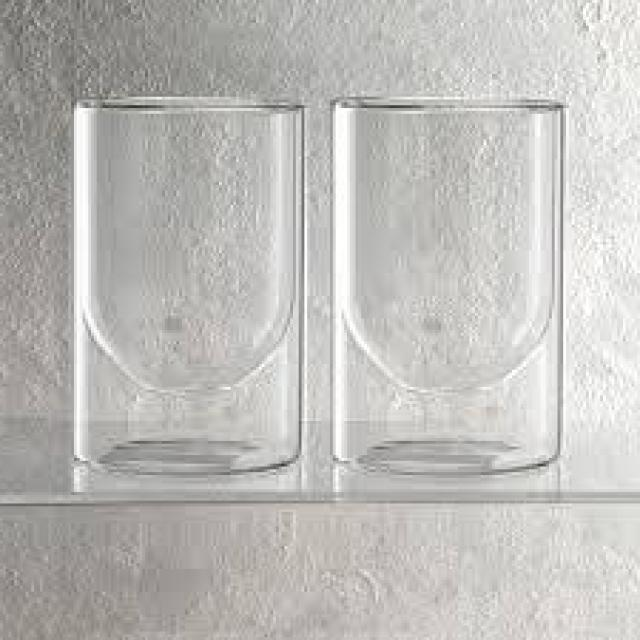glass: (328, 92, 568, 474)
